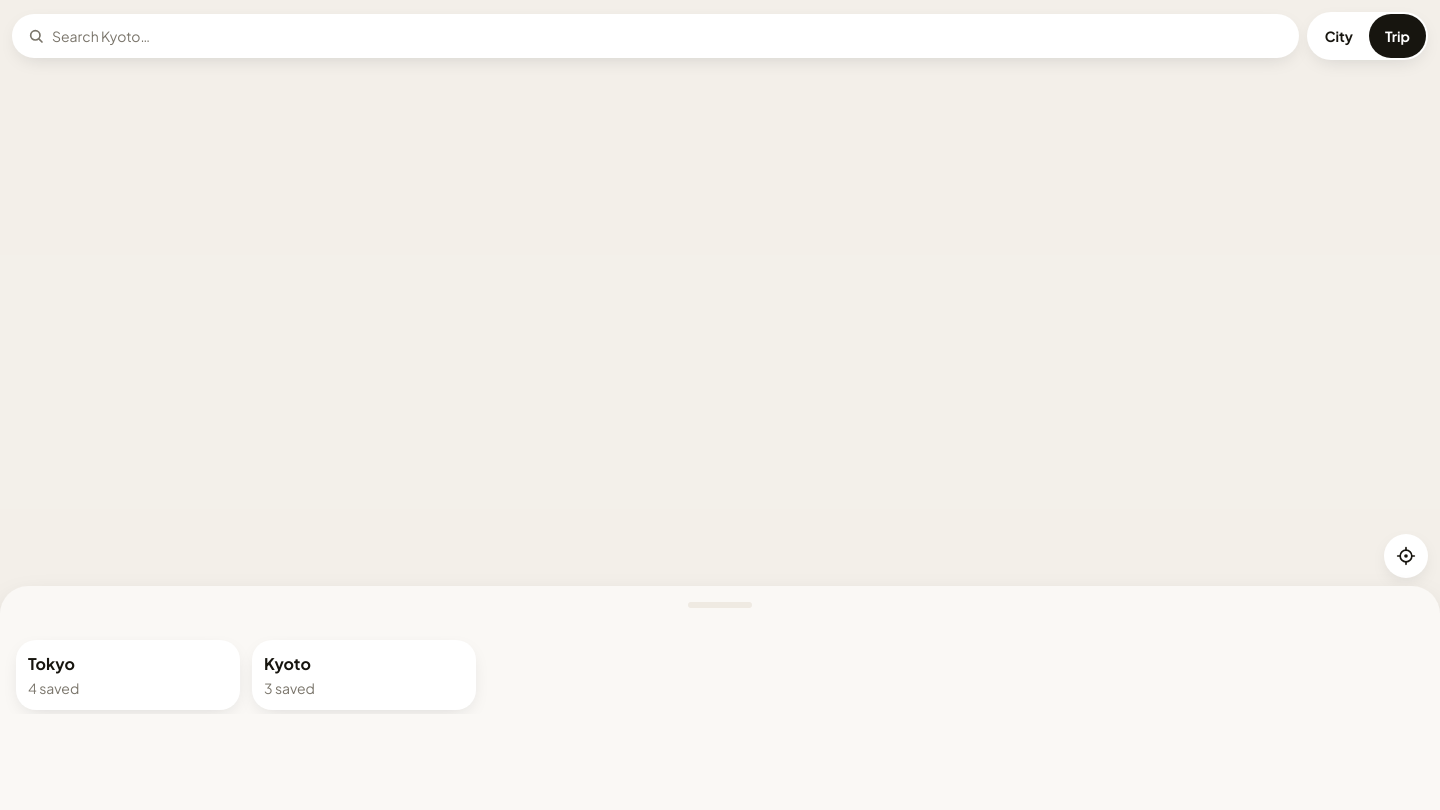
Test: opening the map › switching to City opens on the current step’s zone (FR-008)
This screenshot has width=1440, height=810.
Click the button "City". click: {"x": 1339, "y": 36}
box: [1309,14,1369,58]
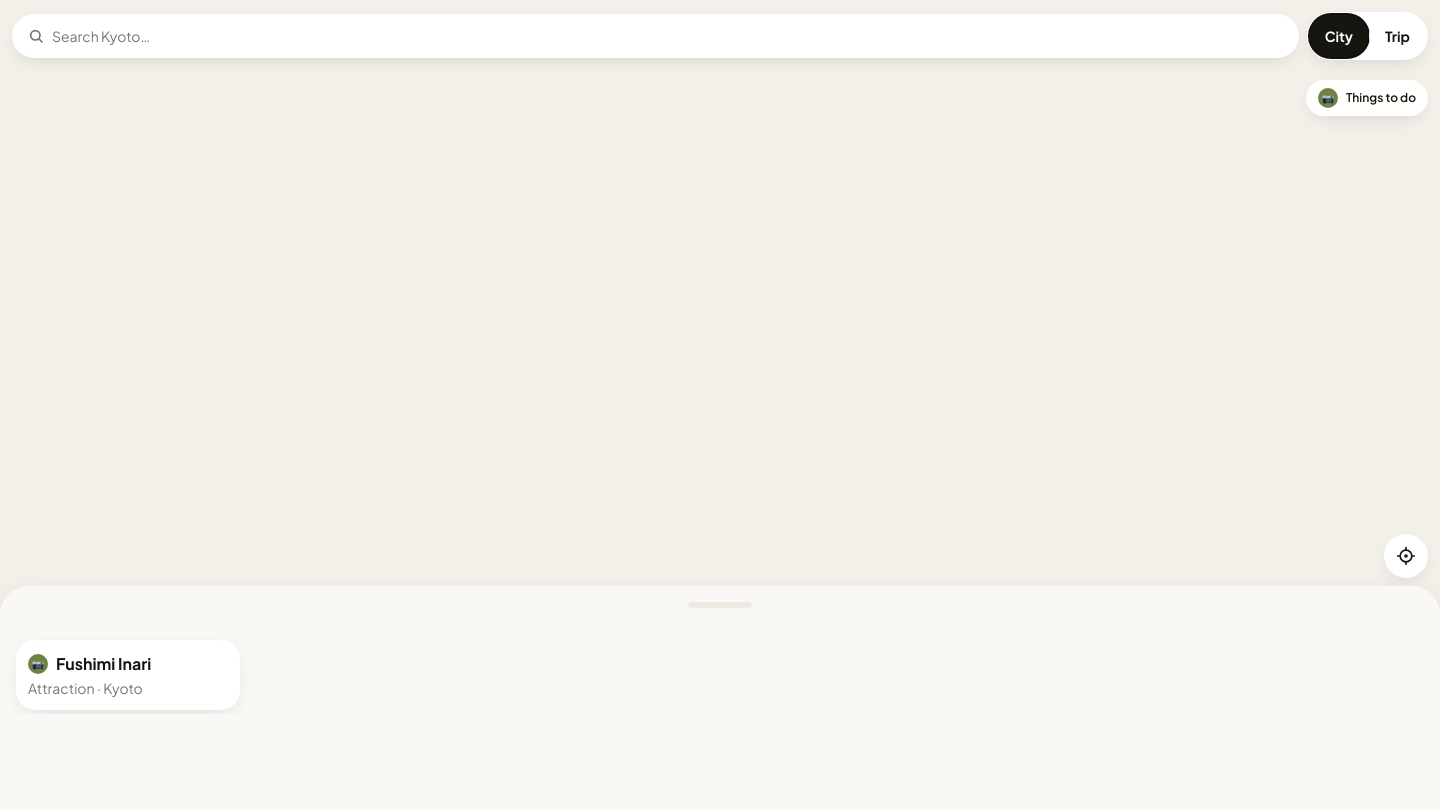
Check: the text "Fushimi Inari" is shown, box [56,652,151,676]
